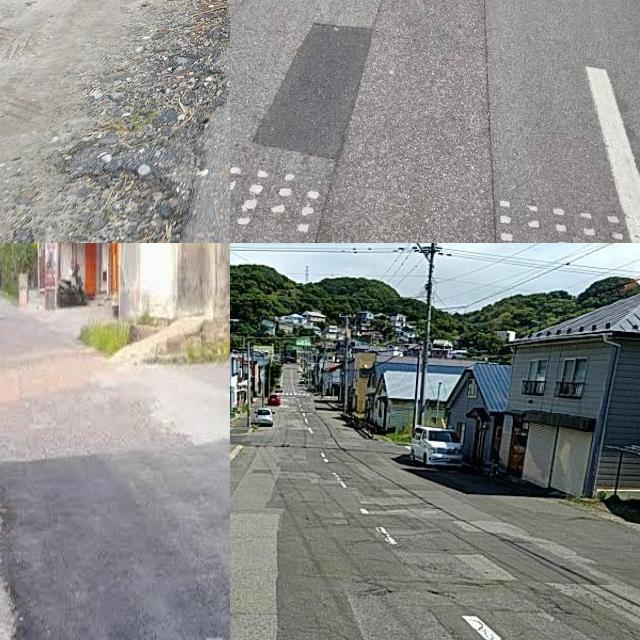Sambungan: (252, 0, 498, 243), (0, 441, 230, 640)
